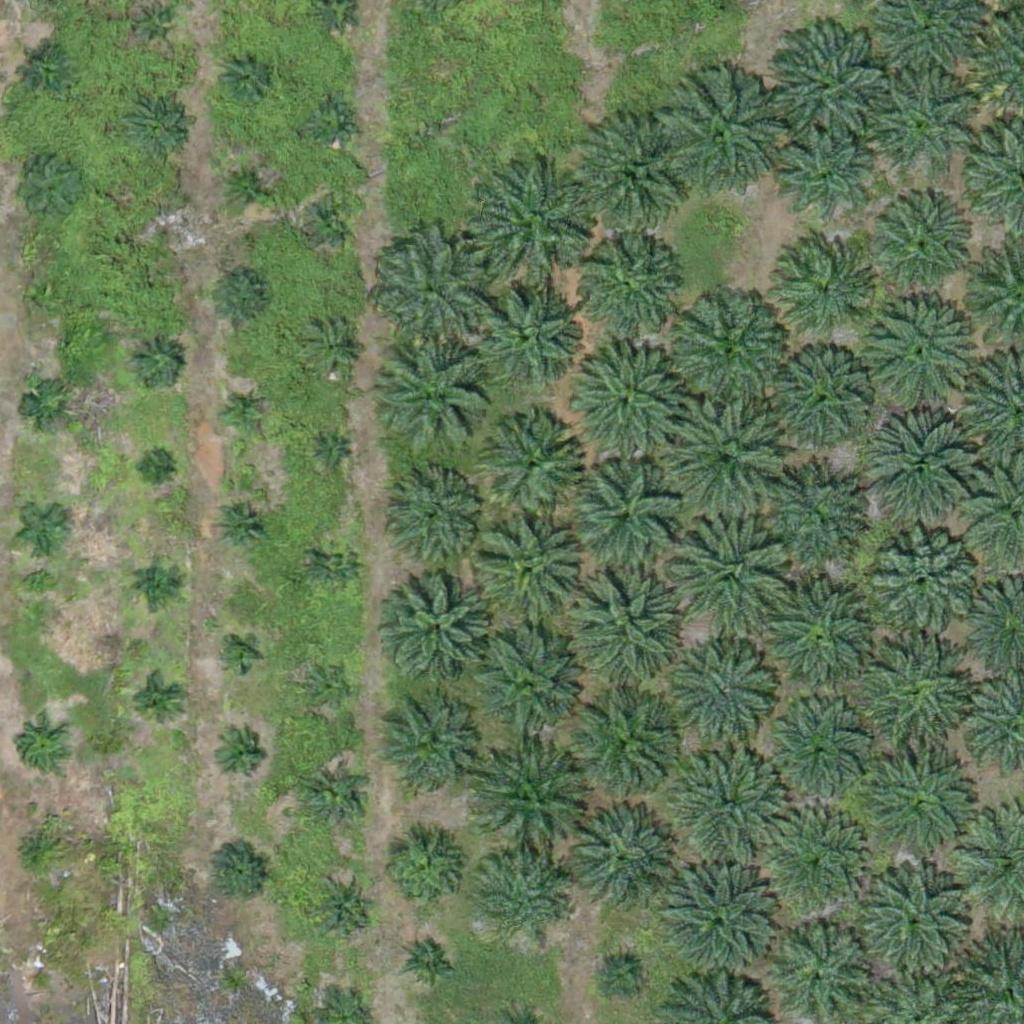Kelapa_Sawit: (763, 23, 888, 149), (657, 76, 782, 202), (474, 161, 599, 287), (664, 394, 789, 520), (666, 284, 791, 410), (852, 635, 977, 761), (862, 745, 987, 871), (561, 562, 686, 688), (668, 510, 793, 636), (847, 853, 972, 979), (576, 115, 689, 229), (676, 747, 789, 861), (860, 291, 973, 404), (566, 342, 679, 455), (565, 459, 678, 572), (562, 803, 675, 916), (754, 803, 867, 916), (861, 413, 973, 527), (568, 691, 680, 805), (476, 747, 588, 861), (472, 631, 584, 745), (475, 514, 587, 628), (375, 234, 487, 347), (384, 340, 496, 453), (869, 526, 981, 639), (764, 580, 876, 693), (664, 869, 776, 982), (872, 72, 972, 173), (868, 193, 968, 294), (774, 125, 874, 226), (477, 284, 577, 385), (483, 412, 583, 513), (767, 708, 867, 809), (679, 648, 779, 749), (772, 240, 872, 340), (770, 349, 870, 449), (755, 472, 855, 572), (576, 233, 676, 333), (388, 578, 488, 678), (376, 704, 476, 804), (378, 827, 465, 915), (393, 474, 480, 562), (478, 854, 565, 942), (10, 149, 85, 224), (313, 879, 376, 942), (208, 838, 271, 901), (208, 266, 271, 329), (307, 769, 369, 832), (126, 97, 188, 160), (401, 931, 463, 994), (130, 675, 180, 726), (214, 729, 264, 780), (307, 323, 357, 374), (130, 336, 180, 387), (223, 158, 273, 209), (10, 823, 60, 874), (312, 541, 362, 591), (132, 558, 182, 608), (20, 503, 70, 553), (15, 721, 65, 771), (221, 49, 271, 99), (22, 383, 72, 433), (307, 196, 357, 246), (306, 97, 356, 147), (126, 1, 176, 51), (218, 386, 268, 436), (301, 660, 351, 710), (217, 500, 267, 550), (596, 950, 646, 1000), (30, 279, 68, 317), (221, 635, 259, 673), (28, 55, 66, 92), (153, 212, 178, 237), (319, 441, 344, 466), (142, 455, 167, 480), (25, 966, 50, 991)
